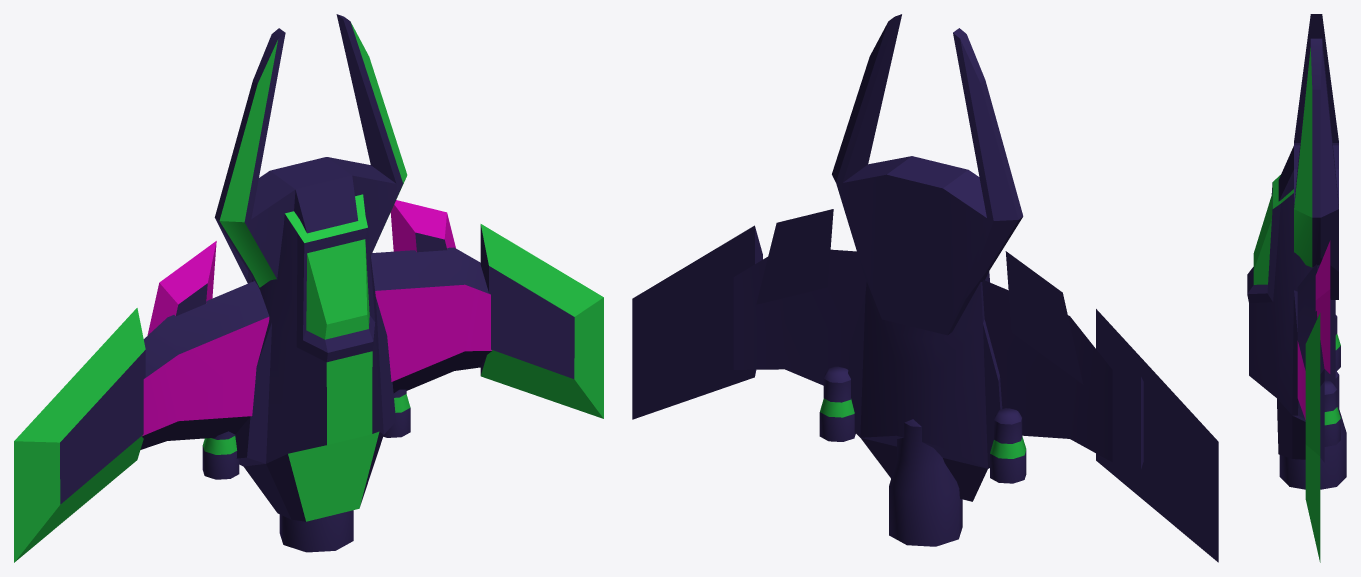
Rendered from Buzzer.fbx.
The picture shows the model from 3 angles, left to right: view 1: azimuth 30°, elevation 25°; view 2: azimuth 150°, elevation 25°; view 3: azimuth 270°, elevation 25°; orthographic projection. The views are drawn at different scales.
Parts seen in each view (by area): view 1: Ship3; view 2: Ship3; view 3: Ship3.
Boxes of the visible parts, <box> form: Ship3: <box>14,14,603,562</box>; Ship3: <box>632,14,1218,562</box>; Ship3: <box>1247,14,1346,562</box>.
Bounding box in the file's own units: 88.51 × 73.56 × 14.79.
